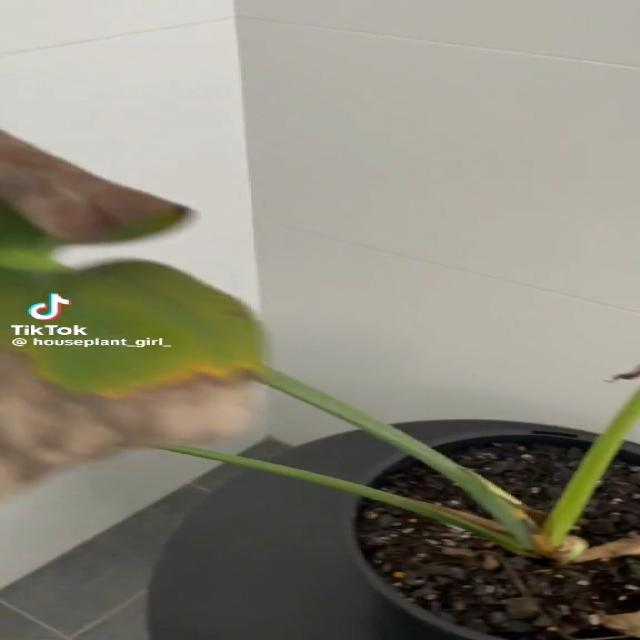lisc_suchy: (0, 126, 271, 508)
roslina_sucha: (0, 125, 640, 564)
